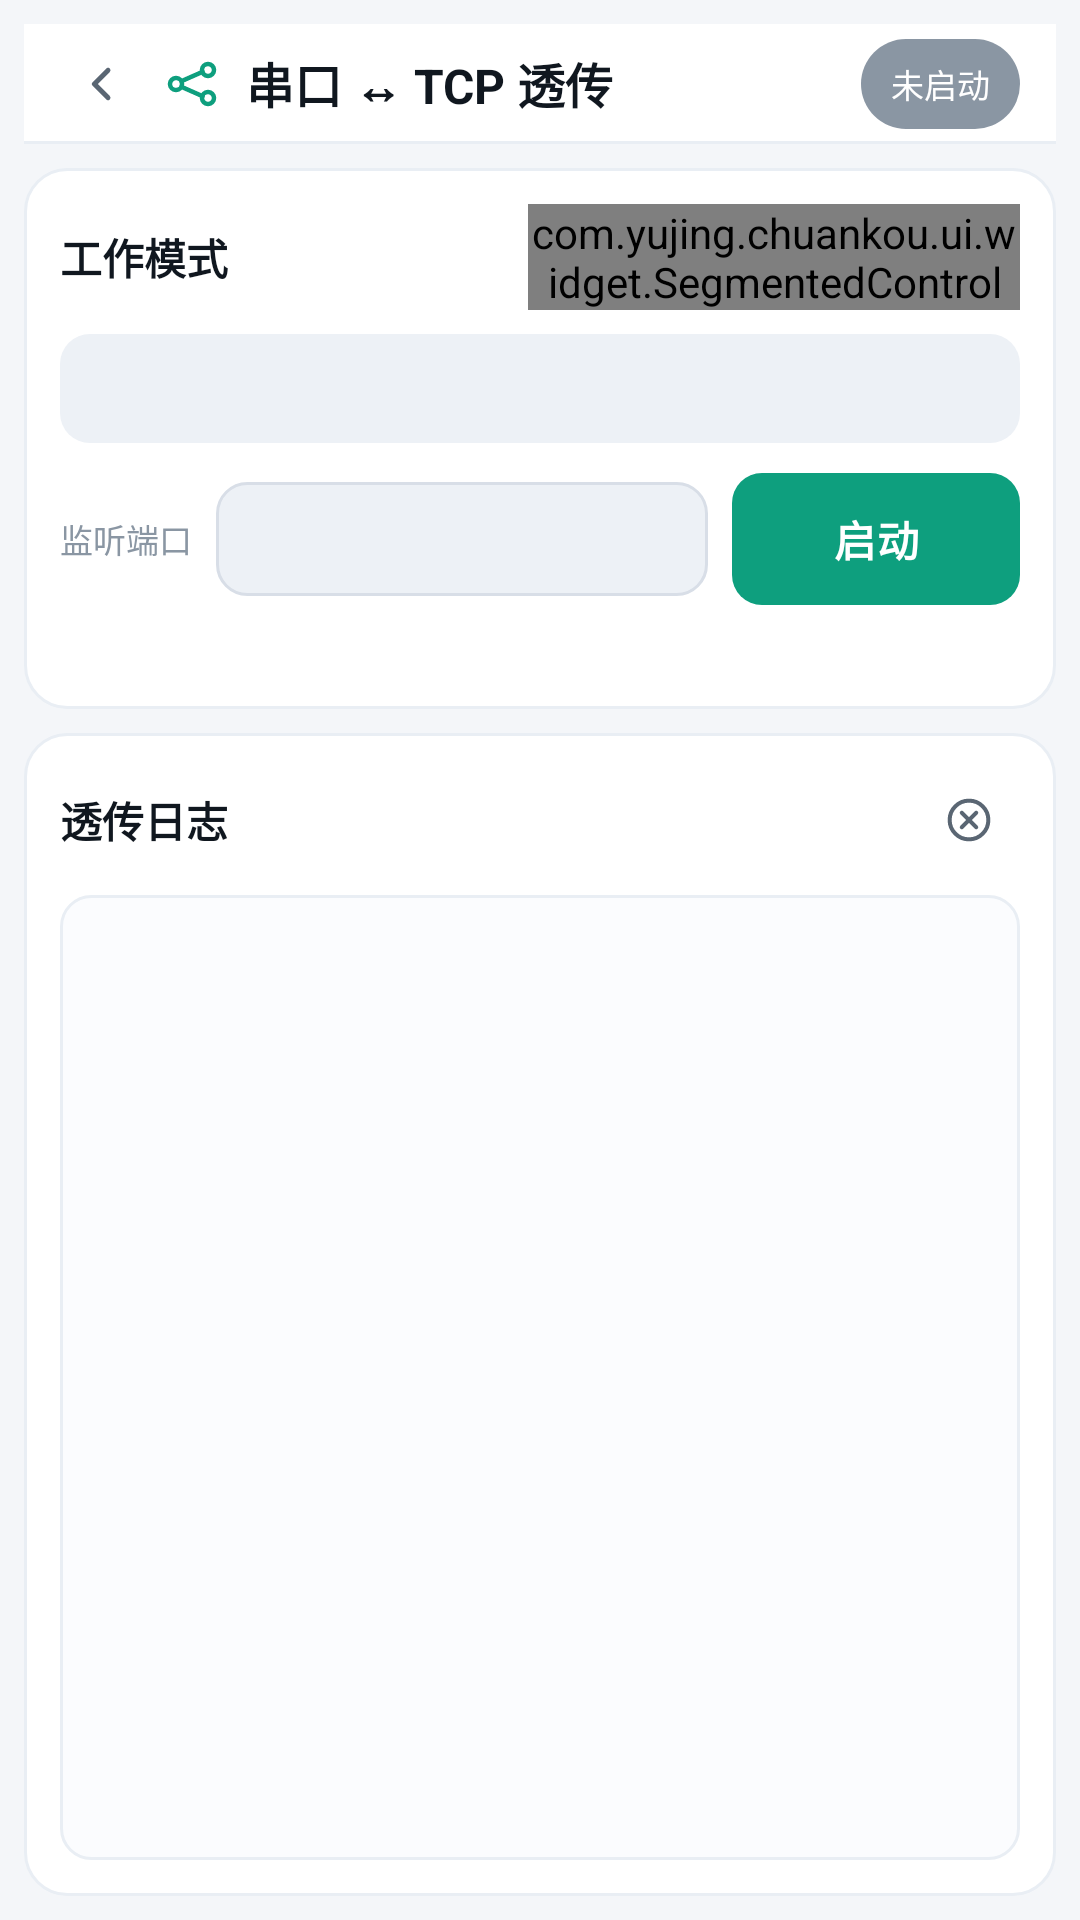

Icons on this 1080px x 1920px Android screen, each with its box as region(x1, y1, x2, y2):
network: region(167, 61, 217, 107)
清空日志: region(947, 798, 991, 842)
返回: region(92, 67, 111, 101)
